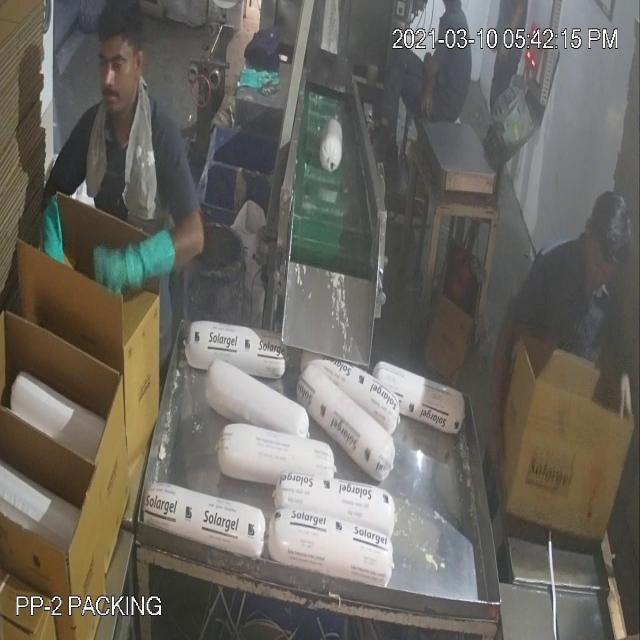Gloves: (35, 106, 622, 397)
